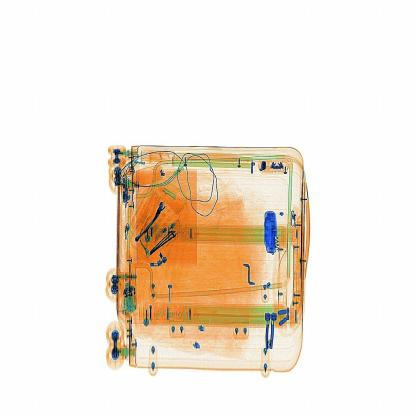scissors: (260, 208, 282, 259)
